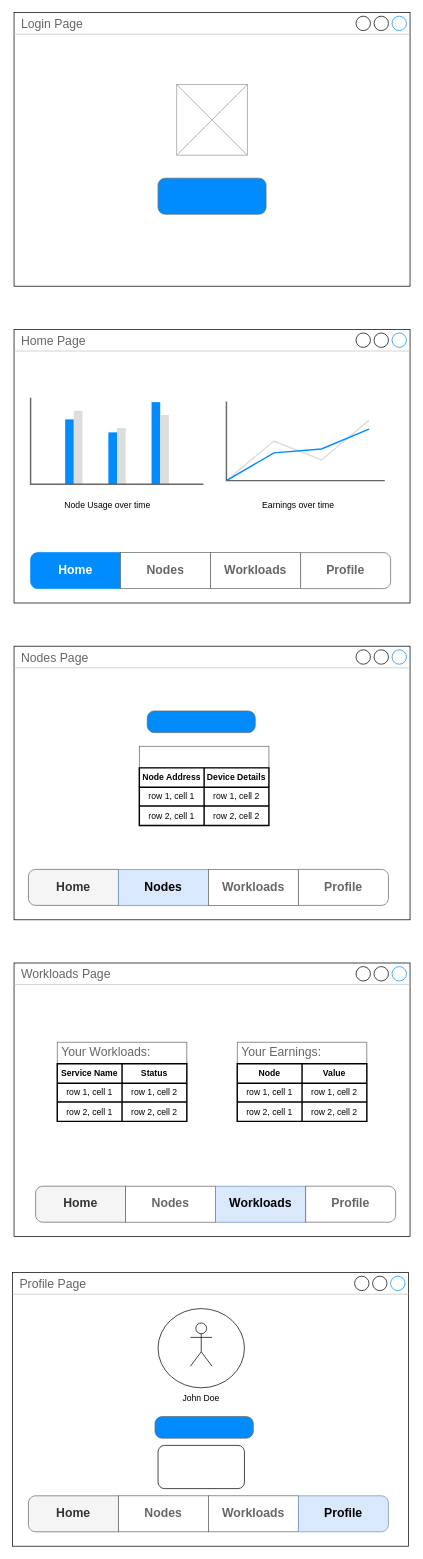
Some shapes in this 423 by 1559 pixel diagram are drawn without their labels. Each missing label, with the centre of its shape:
+ Add Node: [201,721]
<Wallet Info>: [200,1467]
Actor: [201,1344]
Connect Wallet: [203,1427]
Google Sign In: [211,195]
Your Nodes:: [204,757]
